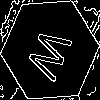W: (25, 25, 81, 88)
